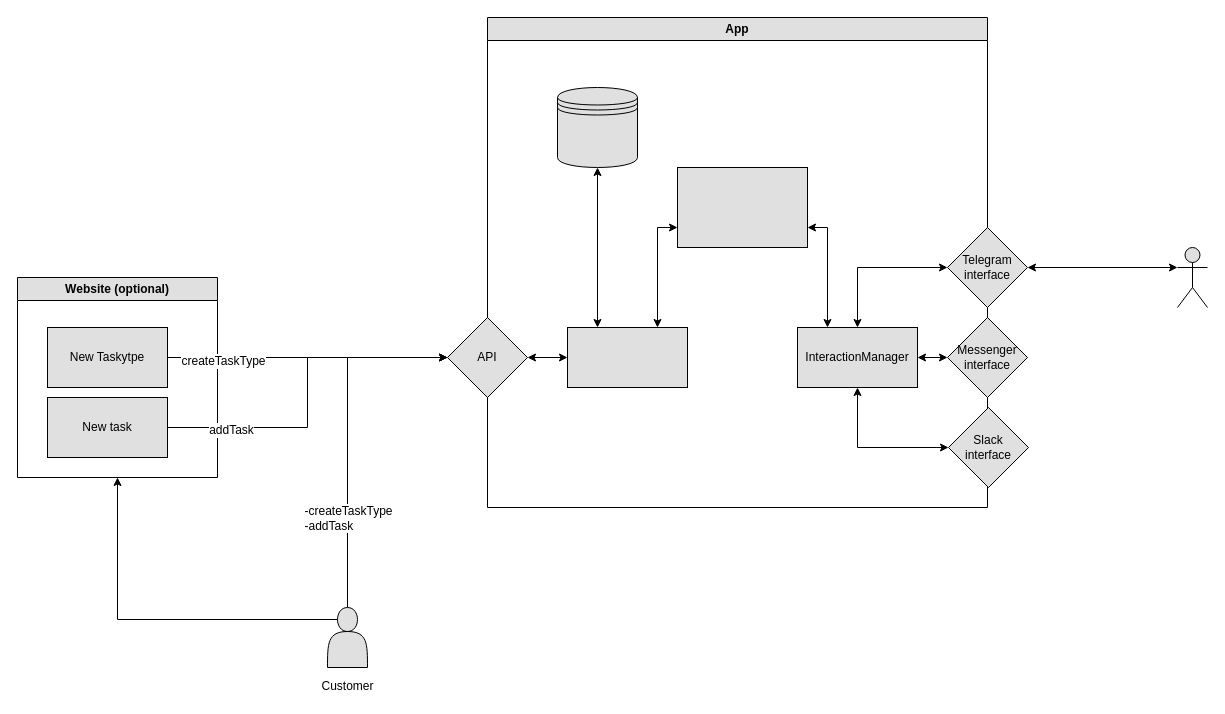
This 1225x714 diagram has some shape labels left out. The shapes that lost their labels are listed below. From the top down, each one's centre as x and y in pixels, then its label:
point 597,127: TaskStore
point 742,207: StateManager
point 1192,277: User
point 627,357: TaskManager
